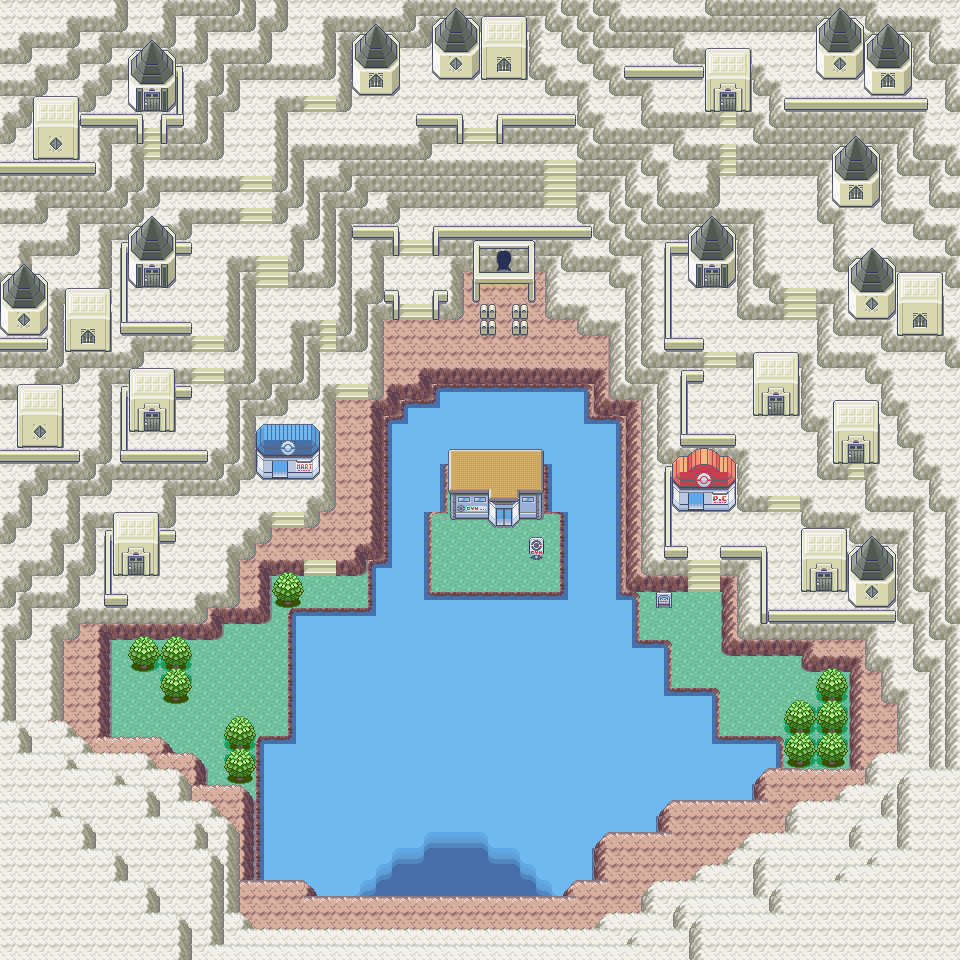cave: (468, 234, 540, 281)
gym: (443, 446, 547, 531)
normal_house: (684, 214, 741, 292), (125, 36, 179, 115), (124, 214, 178, 291), (748, 348, 805, 420), (829, 396, 886, 467), (109, 509, 163, 583), (700, 44, 755, 115), (127, 367, 179, 439), (798, 525, 851, 594)
pokemart: (253, 423, 322, 484)
